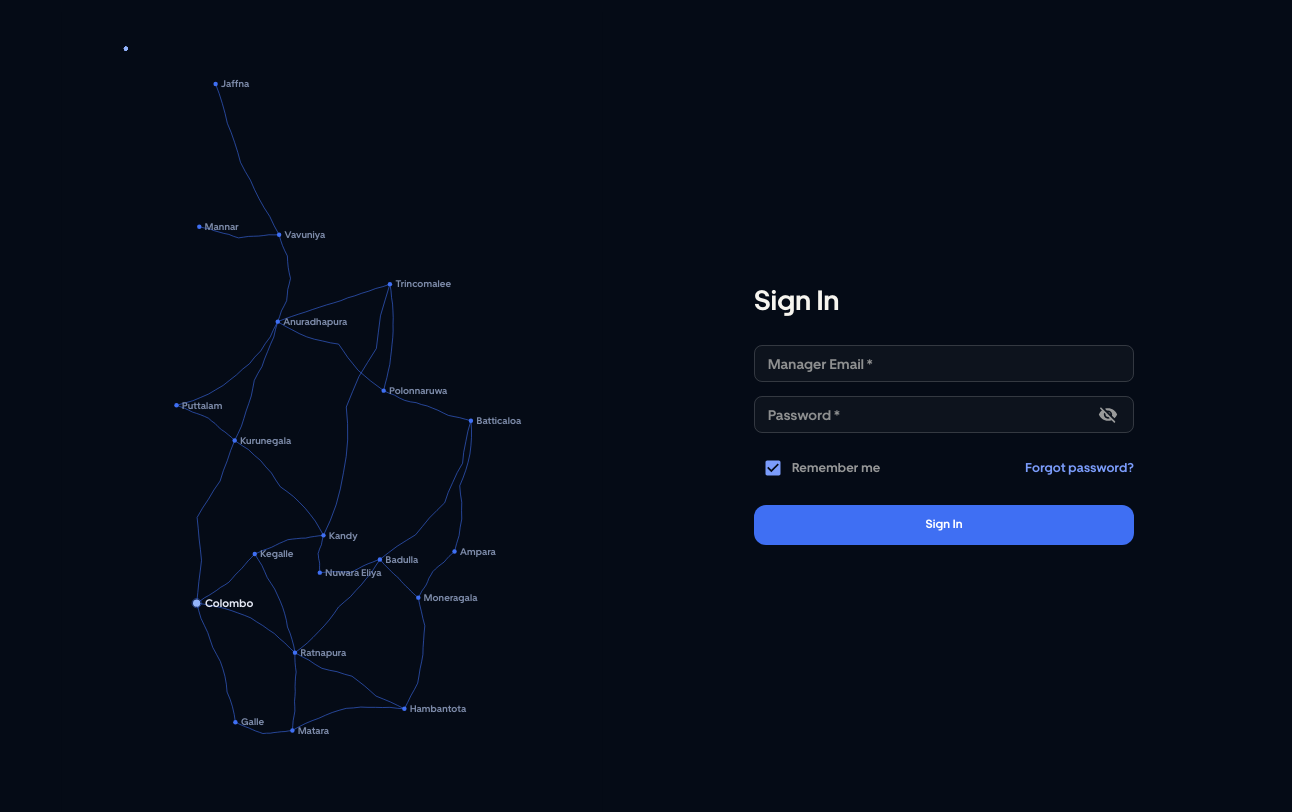
Scenario: App — LoginShell › shows a distinct, actionable message for a deactivated account, different from a wrong-password message
The image size is (1292, 812).
Type "suspended@trackme.com" into the field labelled "Manager Email *" at (944,364), box 754,345 -> 1134,382
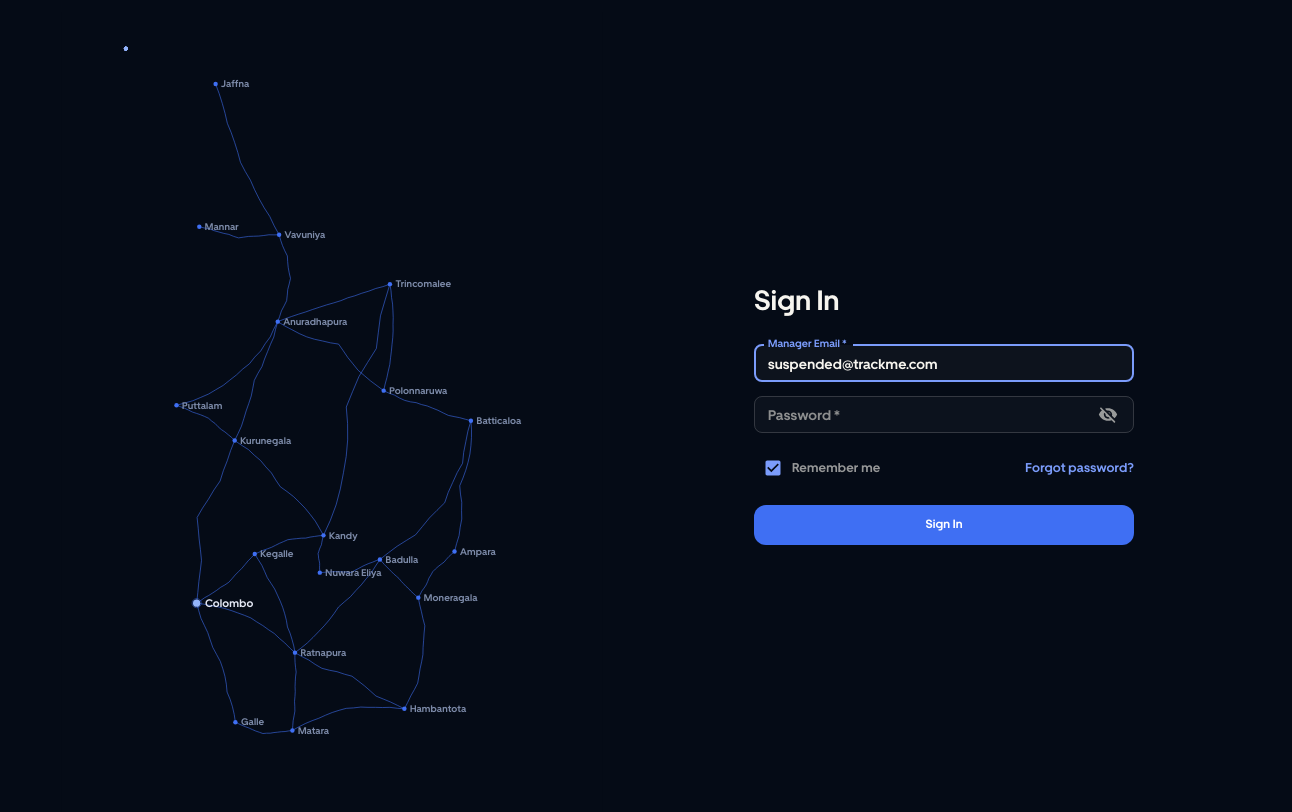
Type "correct-but-deactivated" into the password field labelled "Password *" at (920,415), box 754,396 -> 1085,433
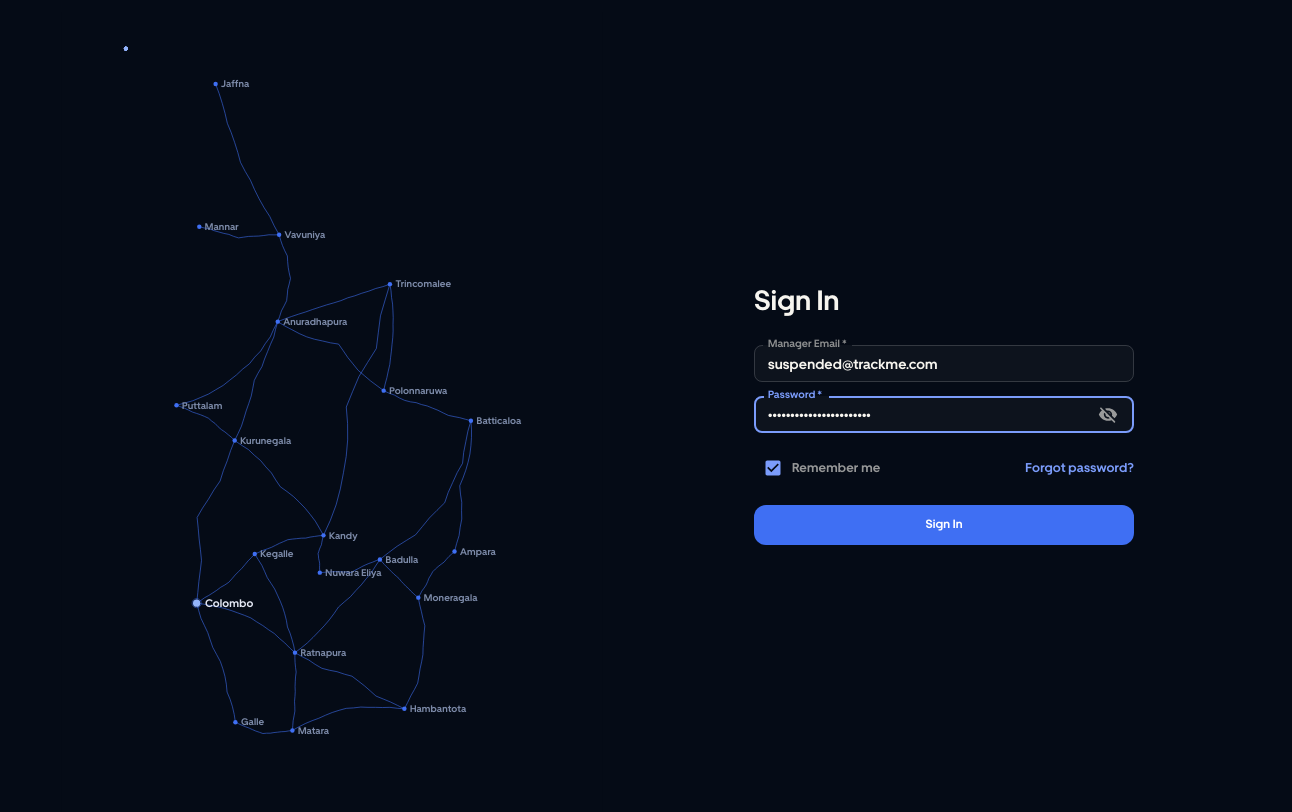
Click the button "Sign In" at (944,525), box 754,505 -> 1134,545
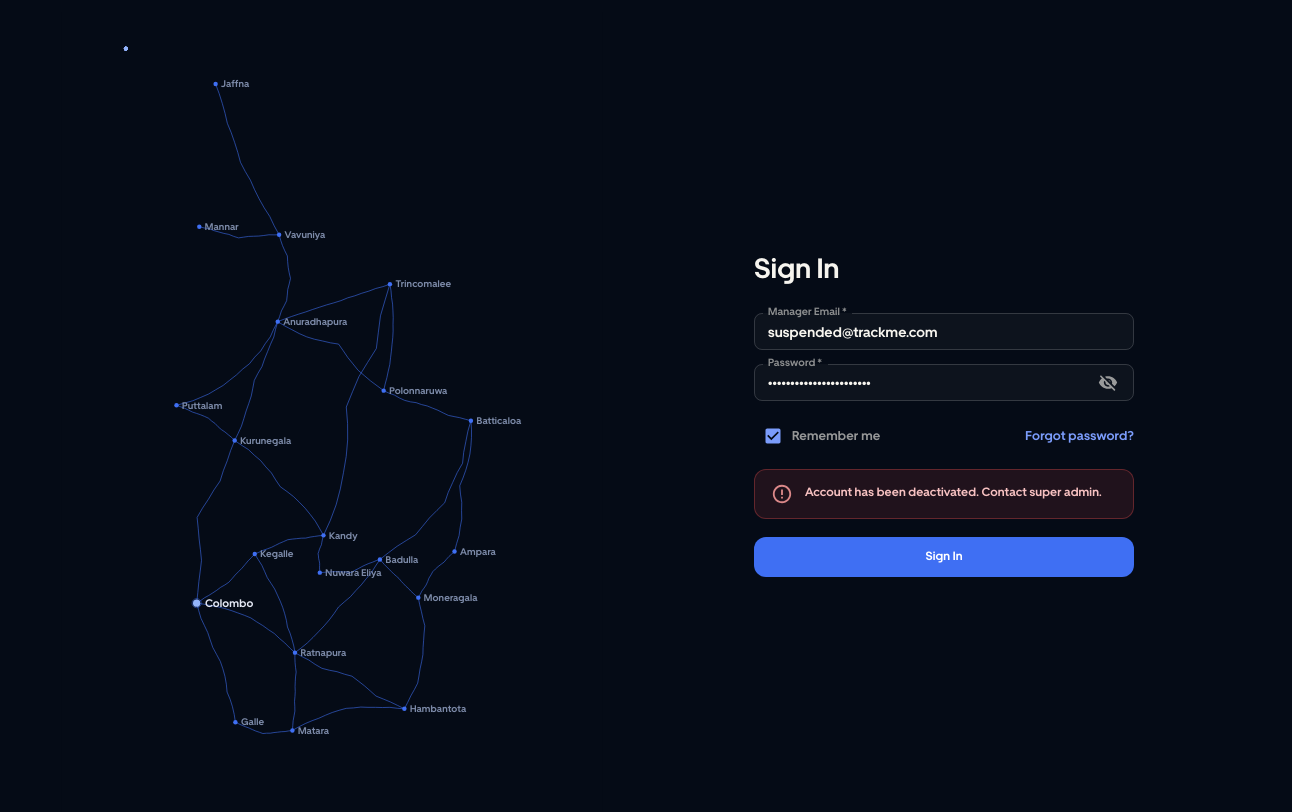
Now the text "Account has been deactivated. Contact super admin." is shown, box 805,485 -> 1102,499
